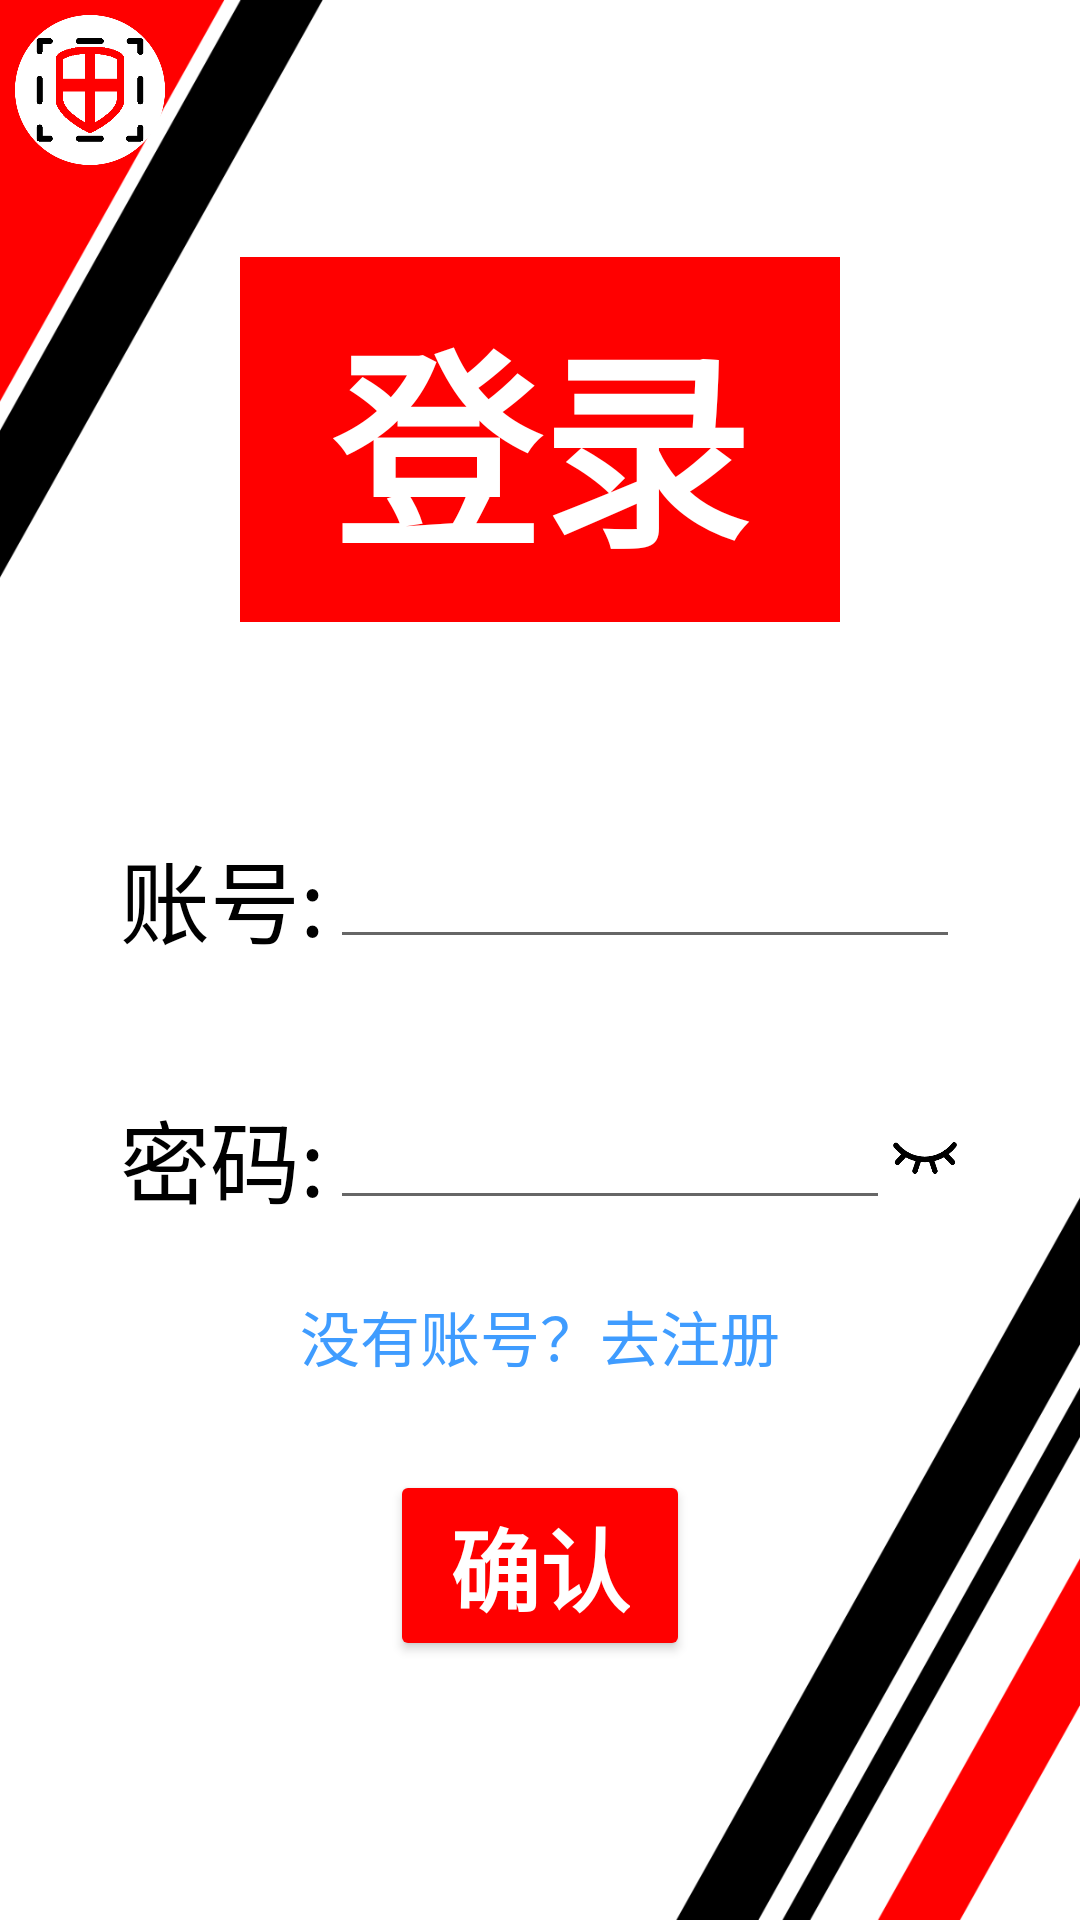

Screen size 1080px x 1920px. Icon name, then its center in pixels as point (x, y):
close eye: point (925, 1158)
